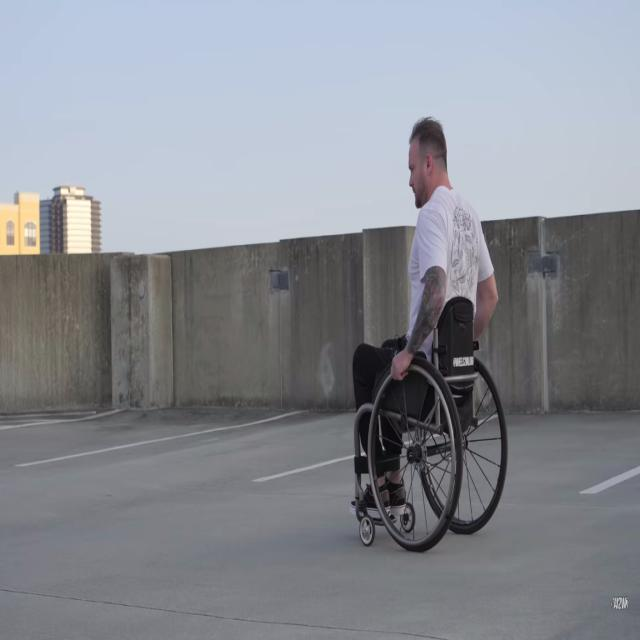wheelchairs: (333, 340, 512, 543)
